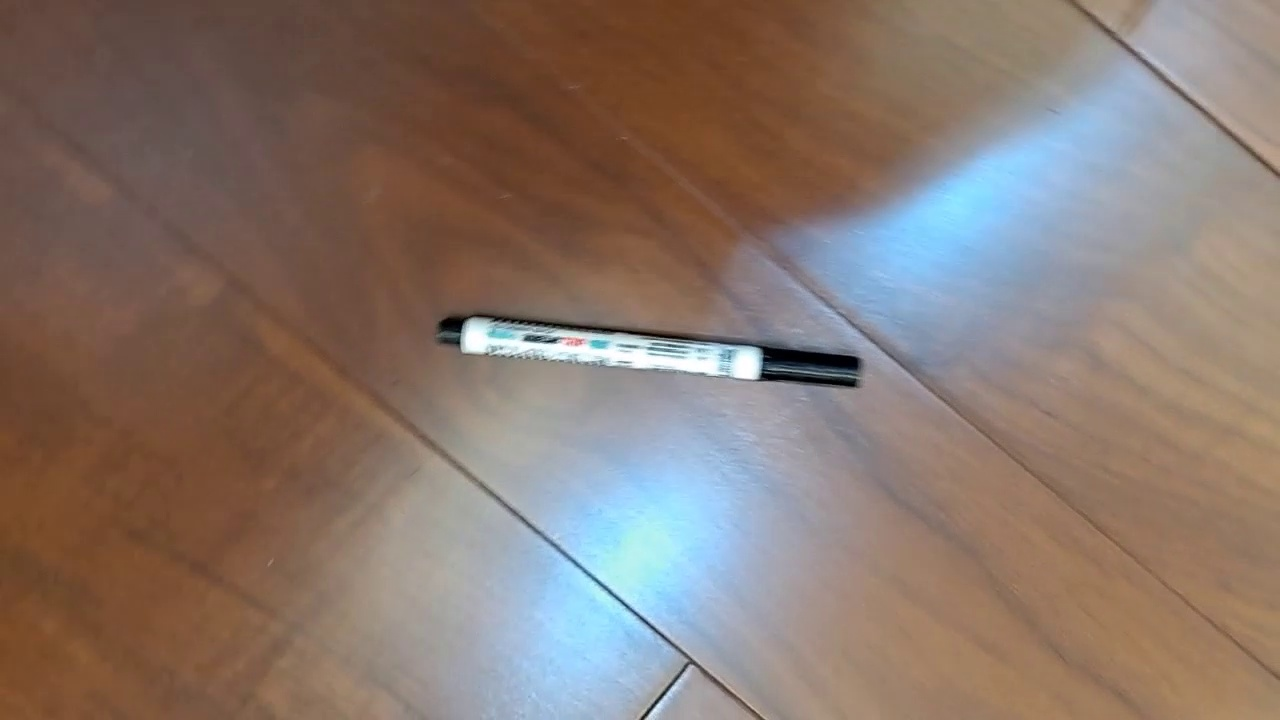pen: (435, 313, 864, 390)
